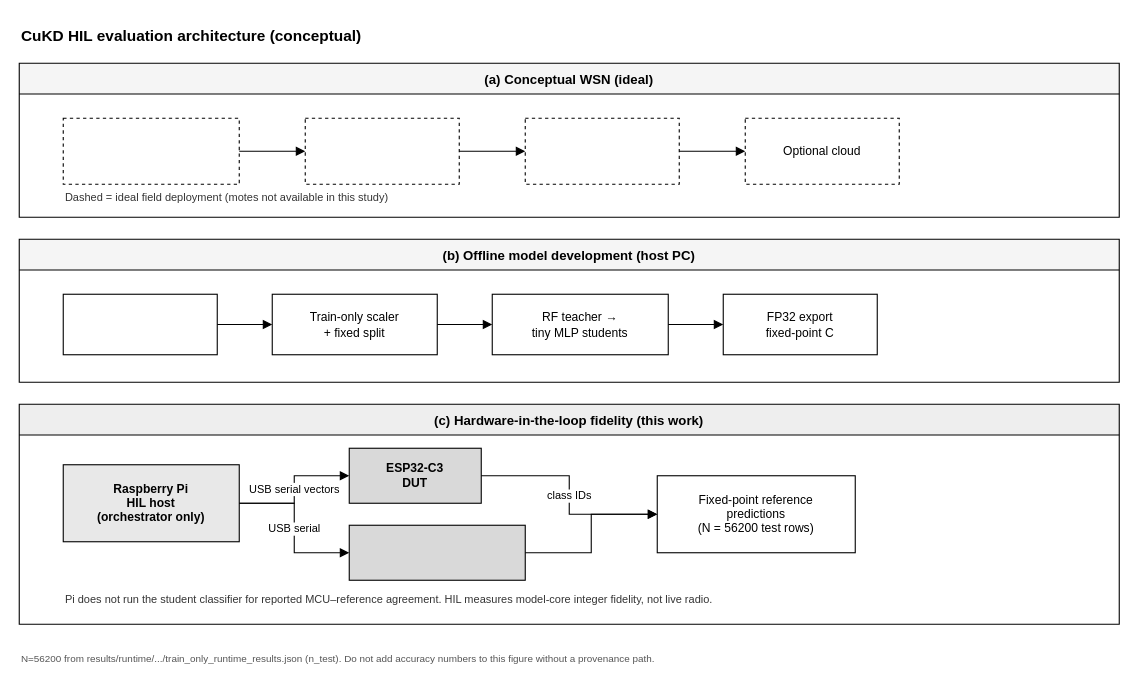
Image size: 1139x697. Some labels were removed from this diagram. Each missing label, with the centre of its shape:
"Arduino UNO R4 WiFi DUT" belongs at pixel 436 552.
"Gateway / sink" belongs at pixel 601 150.
"Low-power radio" belongs at pixel 381 150.
"WSN mote (ideal on-node IDS)" belongs at pixel 150 150.
"WSN-DS CSV 17 features" belongs at pixel 139 324.
